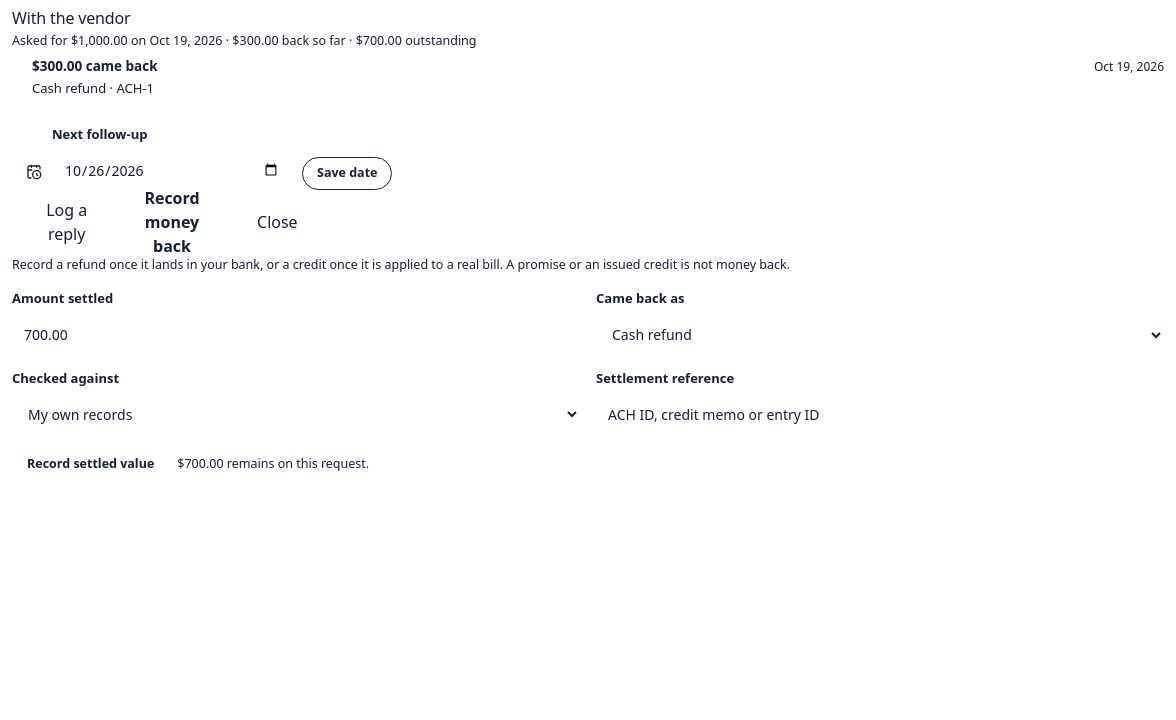
Scenario: explains duplicate settlement references before saving
The image size is (1176, 720).
In the field labelled "Settlement reference": [880, 414] box [596,394,1164,434], type "ach-1"
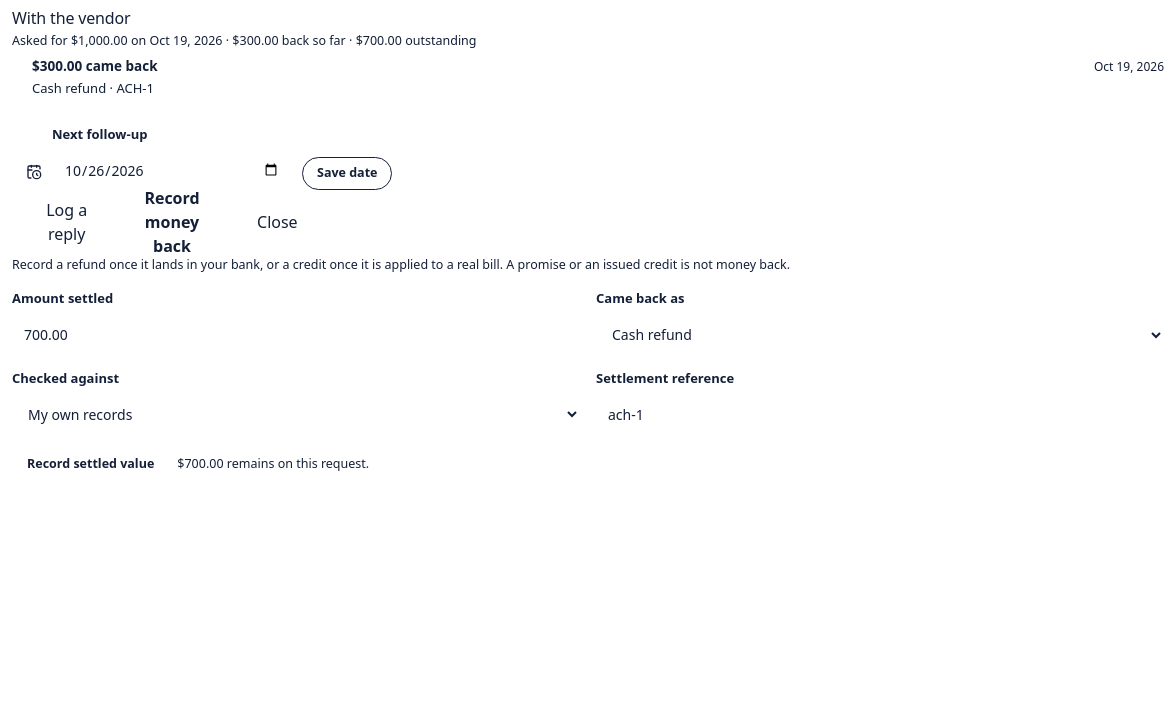
Click the button "Record settled value": [91, 464] box [12,448,169,481]
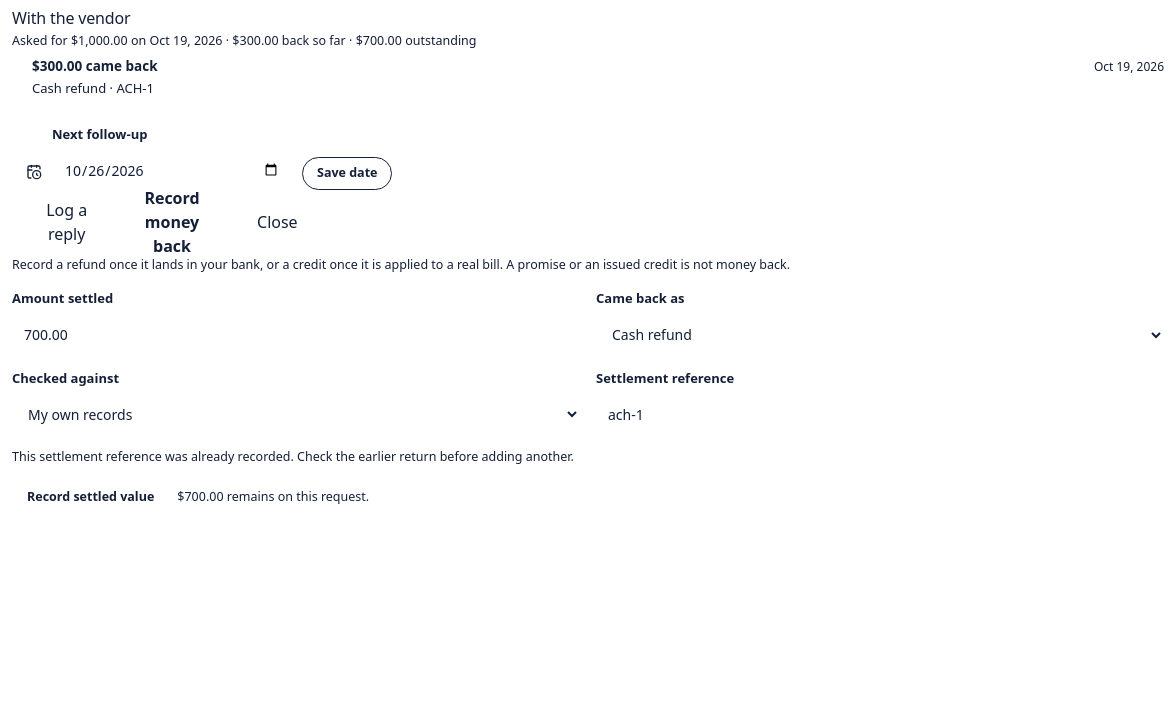
Expected: the message shows "already recorded", [12,448,574,465]
